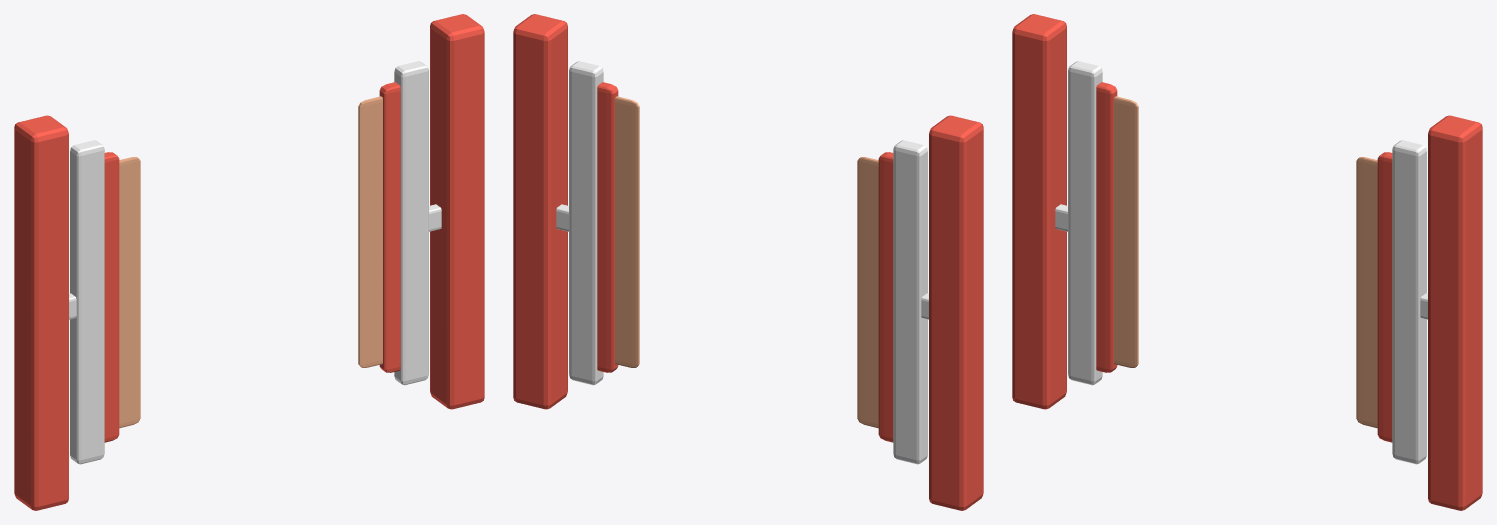
Rendered from Barrier_1.fbx.
3 views of the same model, side by side, from view 1: azimuth 30°, elevation 25°; view 2: azimuth 150°, elevation 25°; view 3: azimuth 330°, elevation 25° (orthographic).
Visible parts, largest first — view 1: Barrier, Barrier_Right, Barrier_Left; view 2: Barrier, Barrier_Right, Barrier_Left; view 3: Barrier, Barrier_Left, Barrier_Right.
Part boxes in pixels (box(x1,y1,x2,y2)): Barrier: box(14, 14, 484, 510); Barrier_Right: box(358, 61, 441, 385); Barrier_Left: box(69, 140, 140, 464); Barrier: box(513, 14, 983, 510); Barrier_Right: box(556, 61, 639, 385); Barrier_Left: box(857, 140, 928, 464); Barrier: box(1012, 14, 1482, 510); Barrier_Left: box(1055, 61, 1138, 385); Barrier_Right: box(1356, 140, 1427, 464).
Size of the model in its own units: 392 by 312 by 32.57.
